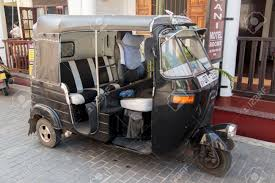tuk tuk: (29, 12, 237, 177)
